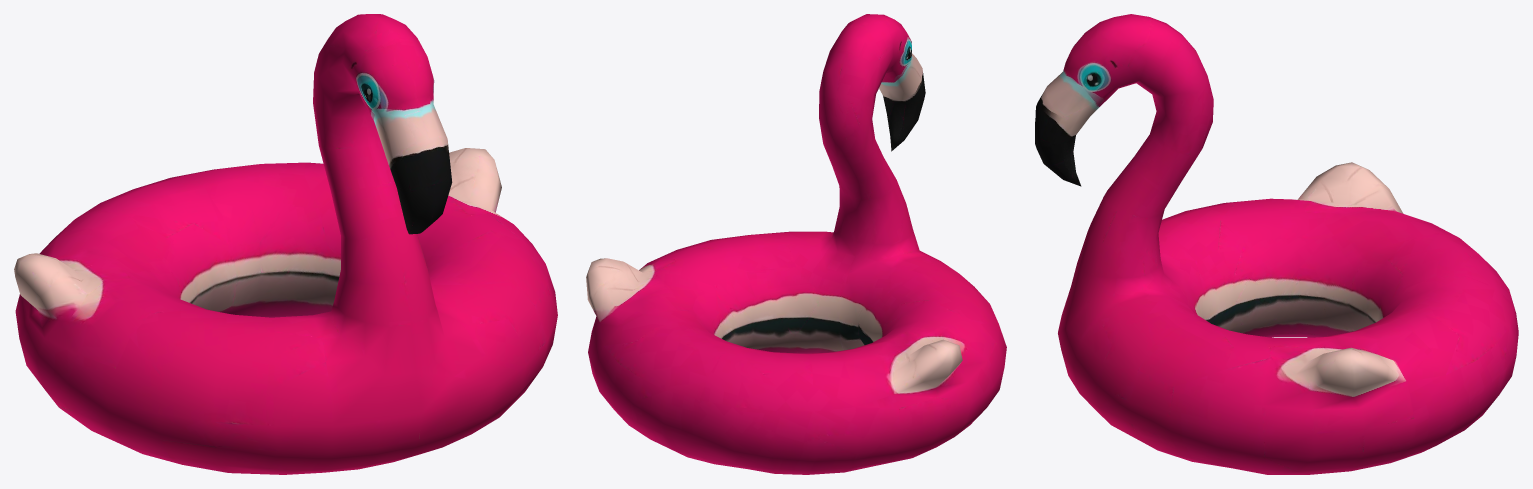
The model's file is flamingo_float.glb.
3 views of the same model, side by side, from view 1: azimuth 30°, elevation 25°; view 2: azimuth 150°, elevation 25°; view 3: azimuth 270°, elevation 25° (orthographic). The views are drawn at different scales.
Bounding box in the file's own units: 0.9856 × 0.8701 × 1.
1 material, 1 textured.
